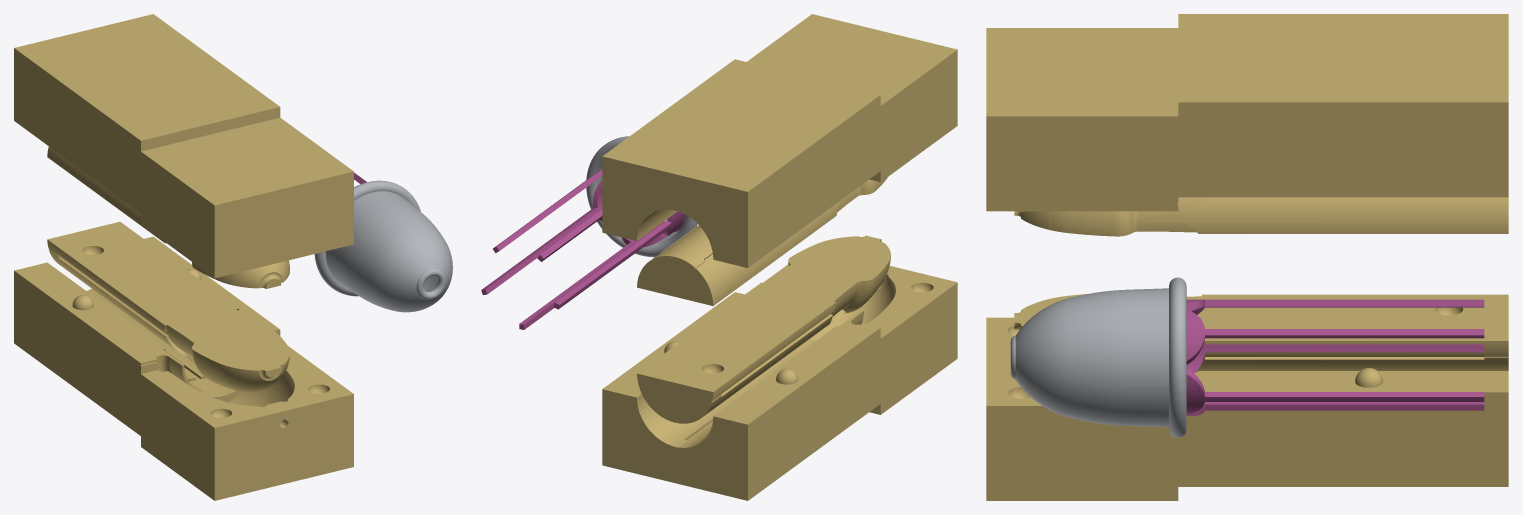
The model's file is flower-low-mould.glb.
The picture shows the model from 3 angles, left to right: view 1: azimuth 30°, elevation 25°; view 2: azimuth 150°, elevation 25°; view 3: azimuth 270°, elevation 25°; orthographic projection. The views are drawn at different scales.
Parts seen in each view (by area): view 1: flower-cup-withrim-mould-1, flower-cup-withrim-mould-5, flower-cup-withrim-mould-4, flower-cup-withrim-mould-2, flower-cup-withrim-mould-0, flower-cup-withrim-part-1, flower-cup-withrim-part-3, flower-cup-withrim-mould-3; view 2: flower-cup-withrim-mould-1, flower-cup-withrim-mould-0, flower-cup-withrim-mould-2, flower-cup-withrim-mould-5, flower-cup-withrim-mould-4, flower-cup-withrim-mould-3, flower-cup-withrim-part-5, flower-cup-withrim-part-3, flower-cup-withrim-part-1; view 3: flower-cup-withrim-mould-1, flower-cup-withrim-mould-5, flower-cup-withrim-mould-0, flower-cup-withrim-mould-4, flower-cup-withrim-mould-2, flower-cup-withrim-mould-3, flower-cup-withrim-part-5, flower-cup-withrim-part-1, flower-cup-withrim-part-3.
Part boxes in pixels (x1,y1,x2,y2): flower-cup-withrim-mould-1: [14, 14, 280, 213]; flower-cup-withrim-mould-5: [141, 117, 353, 278]; flower-cup-withrim-mould-4: [141, 346, 353, 500]; flower-cup-withrim-mould-2: [47, 221, 289, 392]; flower-cup-withrim-mould-0: [14, 236, 280, 435]; flower-cup-withrim-part-1: [320, 180, 452, 287]; flower-cup-withrim-part-3: [314, 252, 452, 312]; flower-cup-withrim-mould-3: [47, 146, 289, 288]; flower-cup-withrim-mould-1: [602, 59, 880, 267]; flower-cup-withrim-mould-0: [602, 292, 880, 500]; flower-cup-withrim-mould-2: [637, 235, 890, 423]; flower-cup-withrim-mould-5: [747, 14, 957, 181]; flower-cup-withrim-mould-4: [763, 264, 957, 414]; flower-cup-withrim-mould-3: [637, 177, 887, 305]; flower-cup-withrim-part-5: [481, 169, 685, 329]; flower-cup-withrim-part-3: [586, 186, 697, 257]; flower-cup-withrim-part-1: [586, 136, 628, 187]; flower-cup-withrim-mould-1: [1178, 14, 1508, 197]; flower-cup-withrim-mould-5: [986, 28, 1178, 211]; flower-cup-withrim-mould-0: [1178, 368, 1508, 486]; flower-cup-withrim-mould-4: [986, 317, 1178, 500]; flower-cup-withrim-mould-2: [1014, 294, 1508, 372]; flower-cup-withrim-mould-3: [1014, 197, 1508, 236]; flower-cup-withrim-part-5: [1186, 299, 1484, 415]; flower-cup-withrim-part-1: [1015, 277, 1186, 391]; flower-cup-withrim-part-3: [1015, 367, 1186, 437].
Size of the model in its own units: 0.121 by 0.126 by 0.1496.
